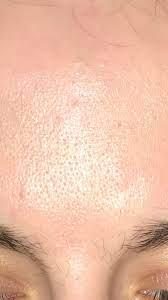Oily-Skin: (25, 54, 134, 224)
